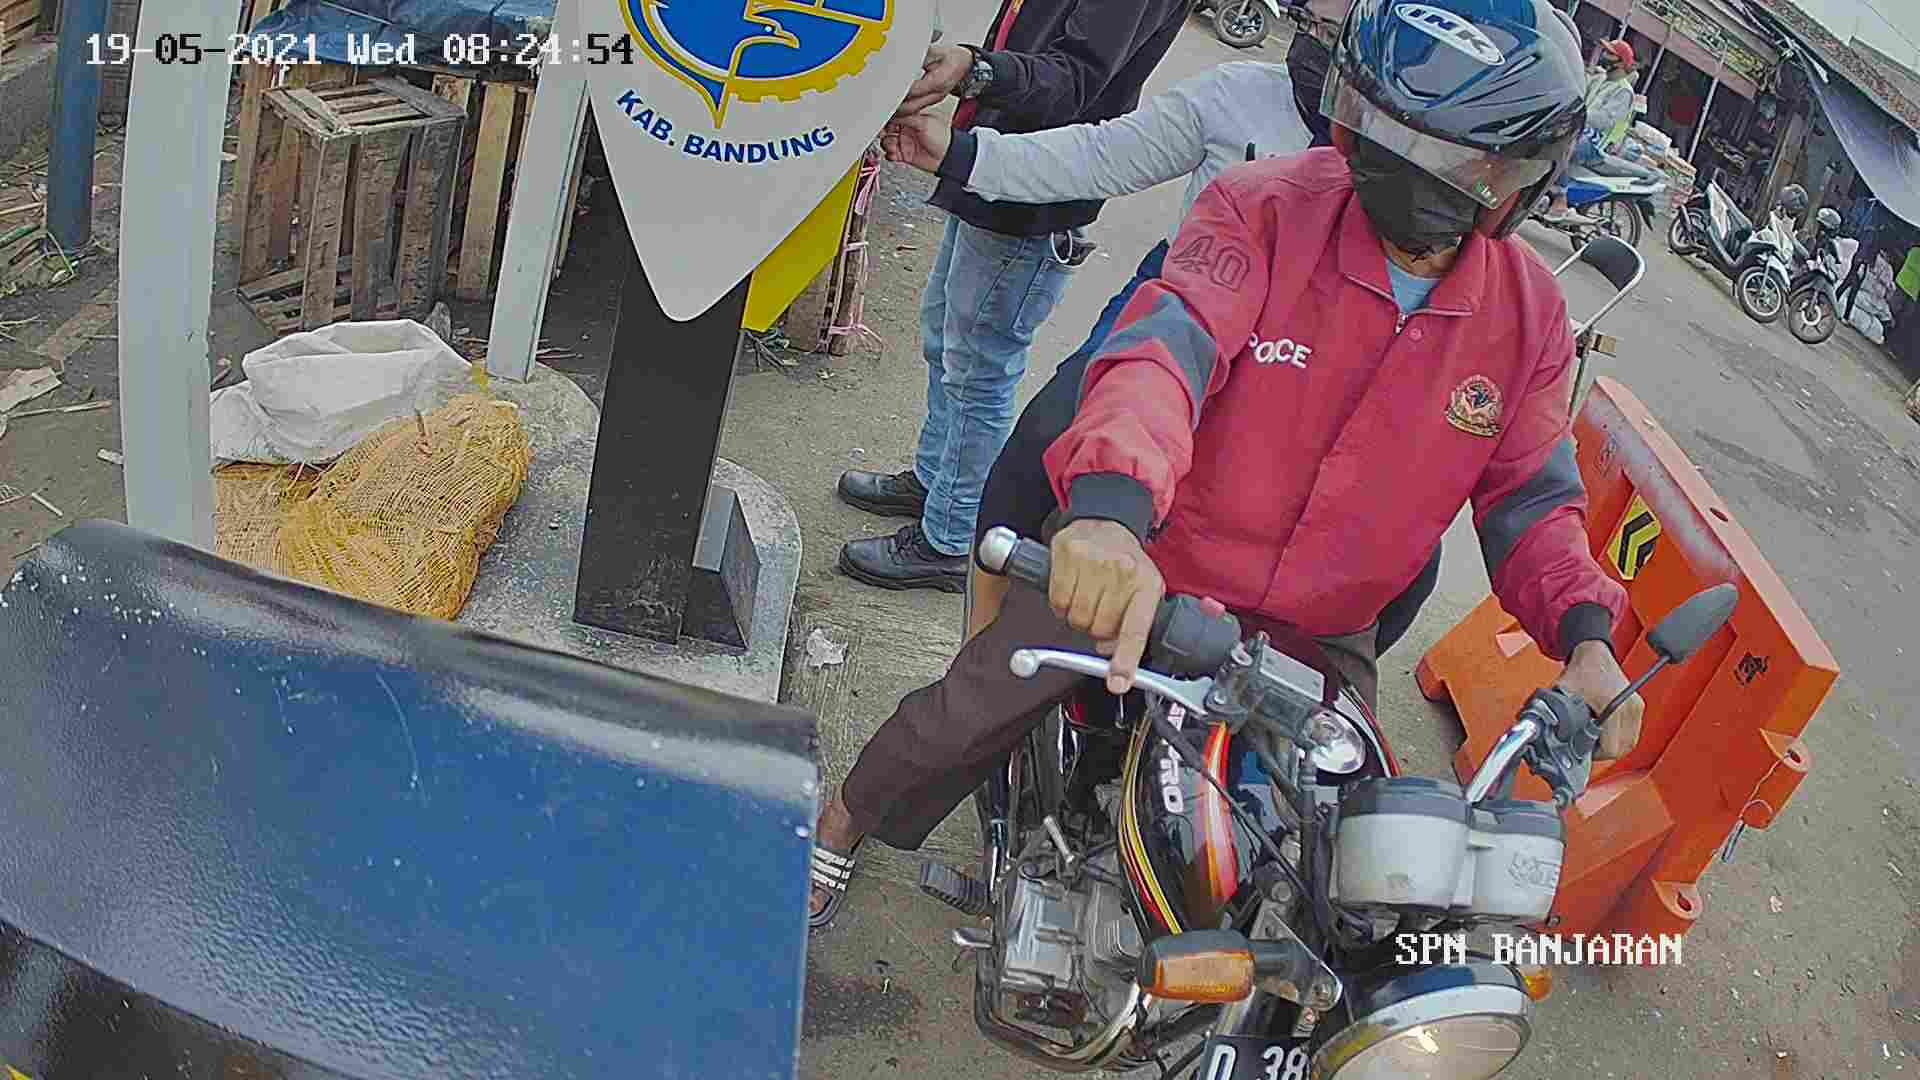motor: (1035, 589, 1735, 1080)
